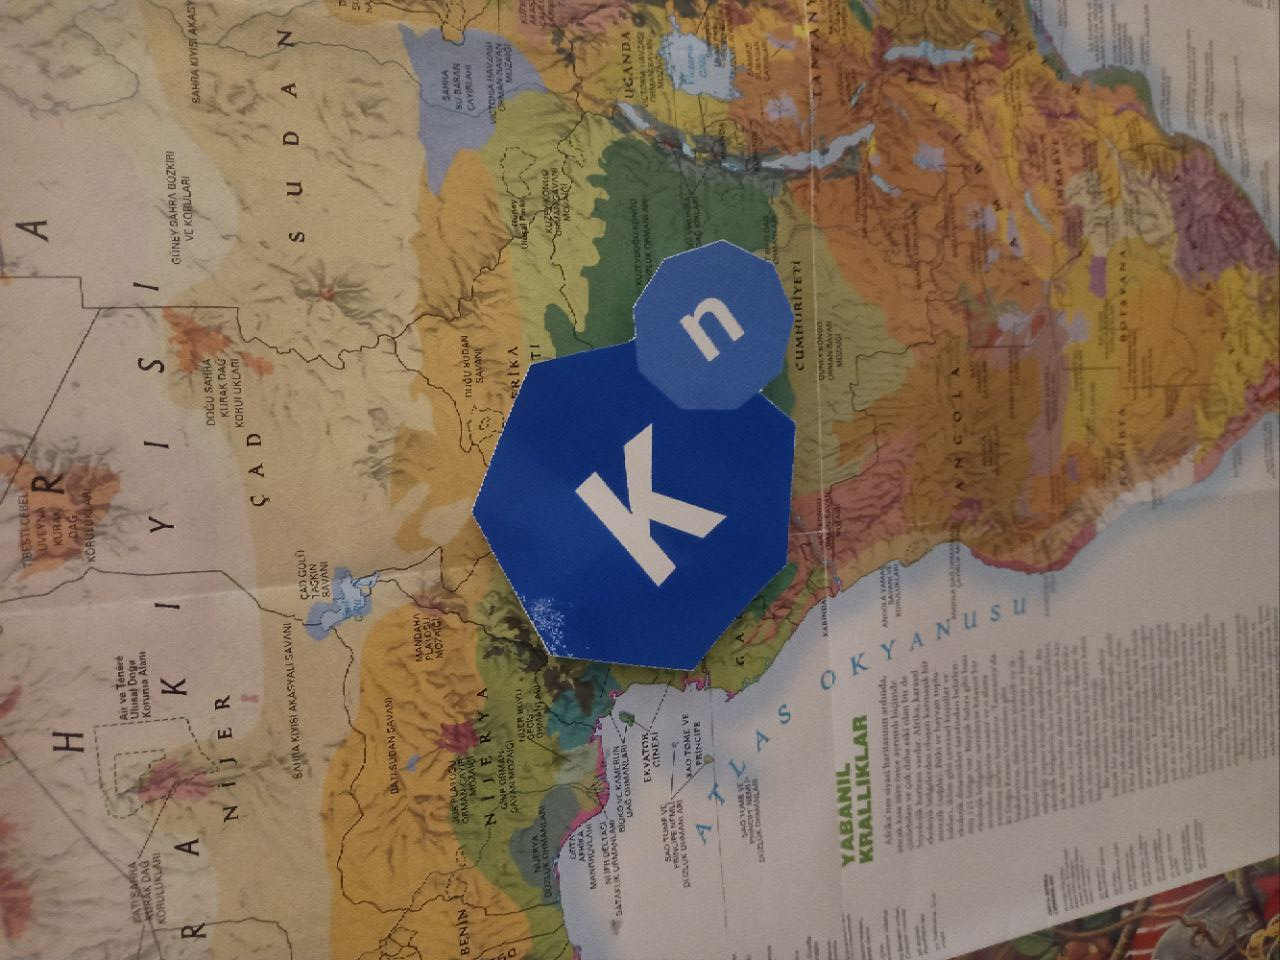knative: (471, 237, 800, 673)
